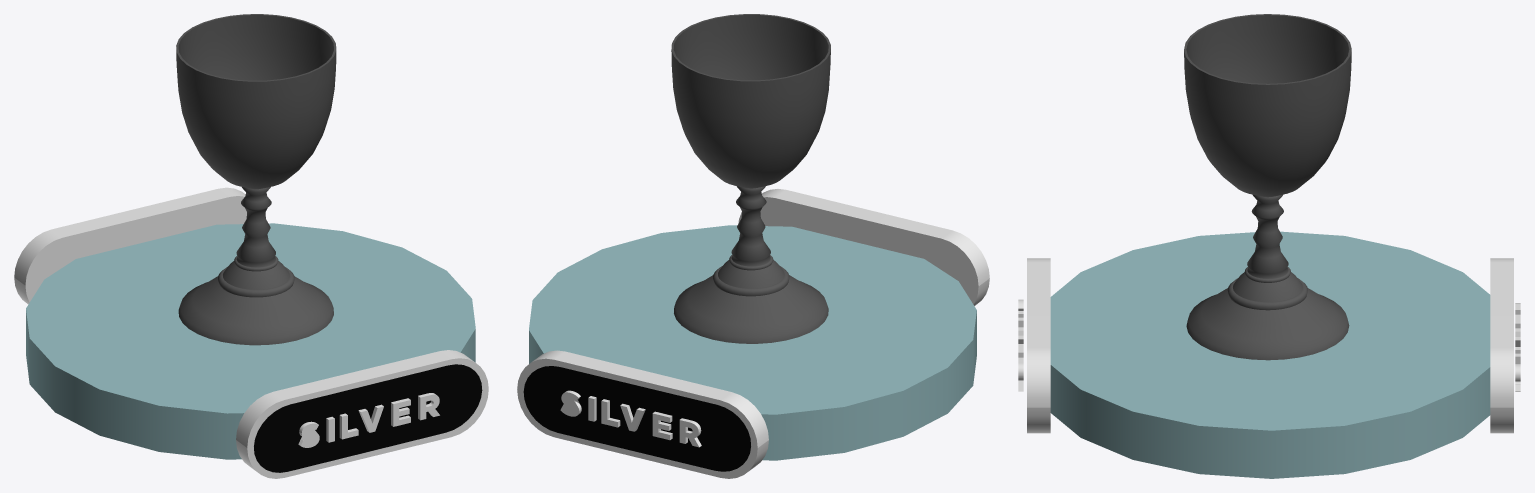
File: goblet_objectgeo.fbx
3 renders of one model, left to right at view 1: azimuth 30°, elevation 25°; view 2: azimuth 150°, elevation 25°; view 3: azimuth 270°, elevation 25°, orthographic. The views are drawn at different scales.
Parts seen in each view (by area): view 1: bananabase_geo1, Silver_Goblet, plaquecolor_geo2, plaquecolor_geo3, silverText_geo; view 2: bananabase_geo1, Silver_Goblet, plaquecolor_geo3, plaquecolor_geo2, silverText_geo1; view 3: bananabase_geo1, Silver_Goblet, plaquecolor_geo2, plaquecolor_geo3, silverText_geo, silverText_geo1.
Boxes of the visible parts, <box> form: bananabase_geo1: <box>26,223,475,459</box>; Silver_Goblet: <box>176,14,336,345</box>; plaquecolor_geo2: <box>236,350,488,478</box>; plaquecolor_geo3: <box>14,187,246,304</box>; silverText_geo: <box>298,393,439,447</box>; bananabase_geo1: <box>529,225,976,460</box>; Silver_Goblet: <box>671,14,830,343</box>; plaquecolor_geo3: <box>517,350,768,478</box>; plaquecolor_geo2: <box>738,189,989,305</box>; silverText_geo1: <box>560,390,701,447</box>; bananabase_geo1: <box>1050,231,1490,478</box>; Silver_Goblet: <box>1184,14,1351,360</box>; plaquecolor_geo2: <box>1027,258,1050,433</box>; plaquecolor_geo3: <box>1490,258,1513,433</box>; silverText_geo: <box>1018,299,1023,391</box>; silverText_geo1: <box>1515,303,1520,391</box>.
Size of the model in its own units: 18.1 by 14.33 by 19.25.
